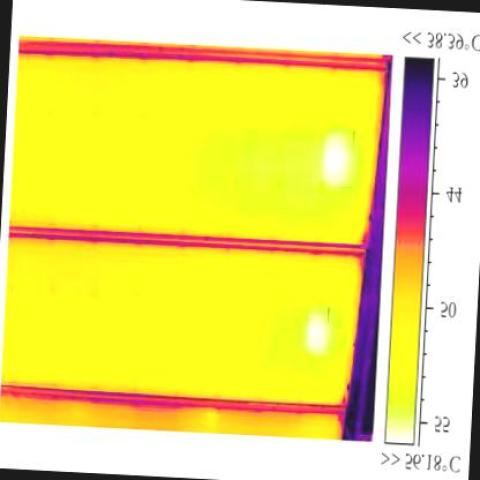fault: (325, 130, 348, 183), (304, 306, 328, 350)
